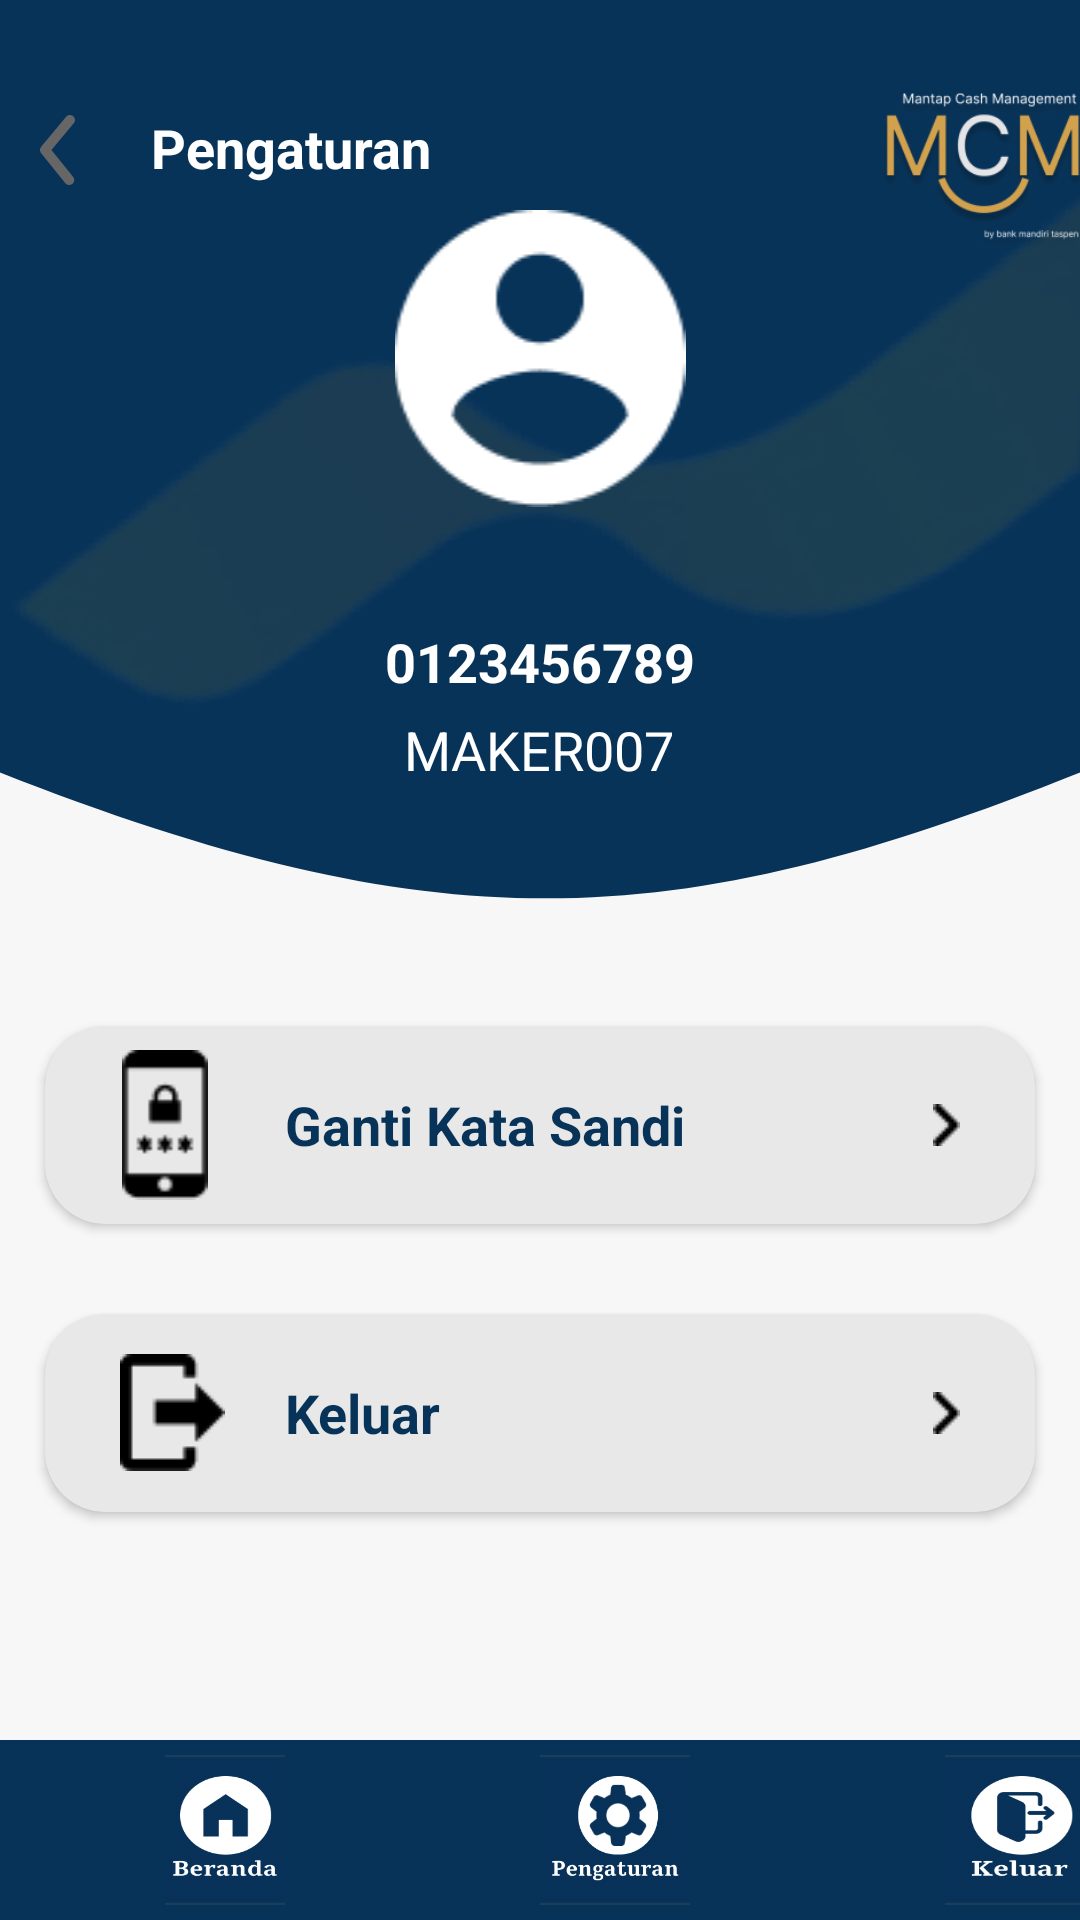

Icons on this 1080px x 1920px Android screen, each with the point to tap as [x,y]:
arrowkanan: [946,1125], [946,1413]
back arrow: [57,150]
gantisandi: [165,1125]
